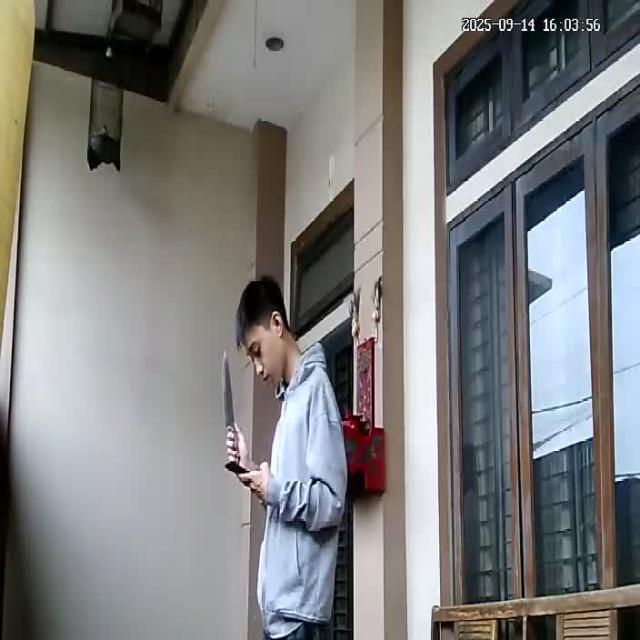senjata_tajam: (222, 348, 237, 431)
